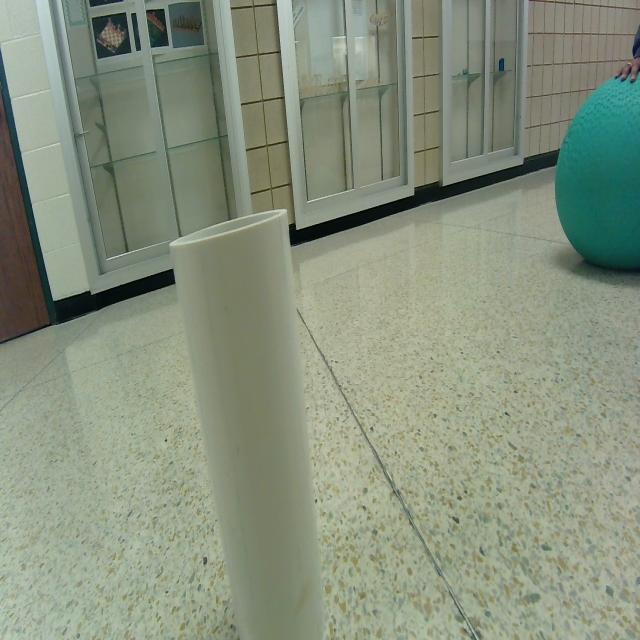algae: (555, 71, 640, 272)
coral: (170, 210, 326, 640)
